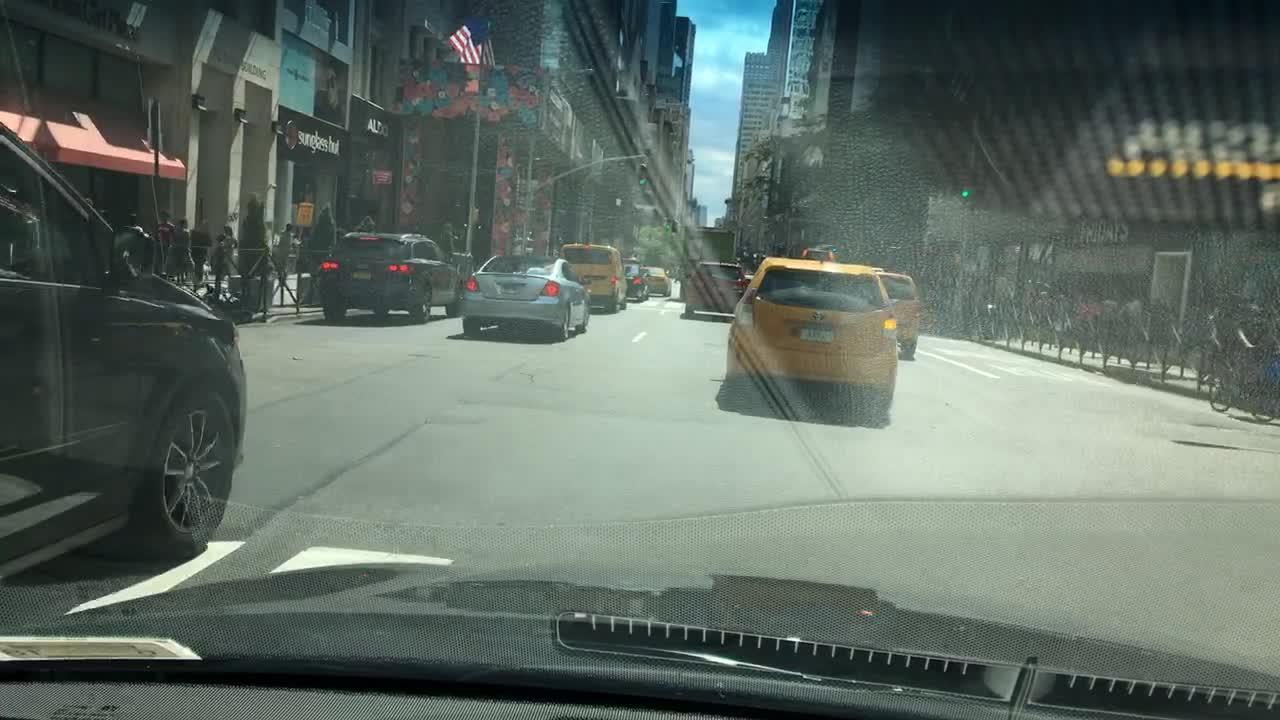bike: (1205, 346, 1279, 425)
car: (0, 120, 241, 563), (722, 250, 903, 407), (315, 231, 464, 327), (457, 253, 590, 339), (560, 239, 624, 312), (681, 258, 752, 320), (874, 263, 918, 359), (619, 255, 648, 300), (644, 265, 671, 299)
person: (187, 216, 214, 285), (168, 216, 192, 282), (153, 206, 175, 278), (1115, 295, 1144, 347), (273, 223, 298, 283), (206, 234, 229, 293), (1076, 288, 1102, 336), (1198, 304, 1225, 349), (1027, 288, 1051, 332), (1049, 287, 1071, 334), (1098, 292, 1119, 341), (219, 223, 239, 272), (125, 207, 150, 239)
rider: (1221, 293, 1279, 405)
traffic light: (634, 160, 646, 184), (958, 175, 970, 199), (663, 214, 673, 233)
traffic sign: (371, 167, 390, 185)
truck: (678, 228, 735, 263)
